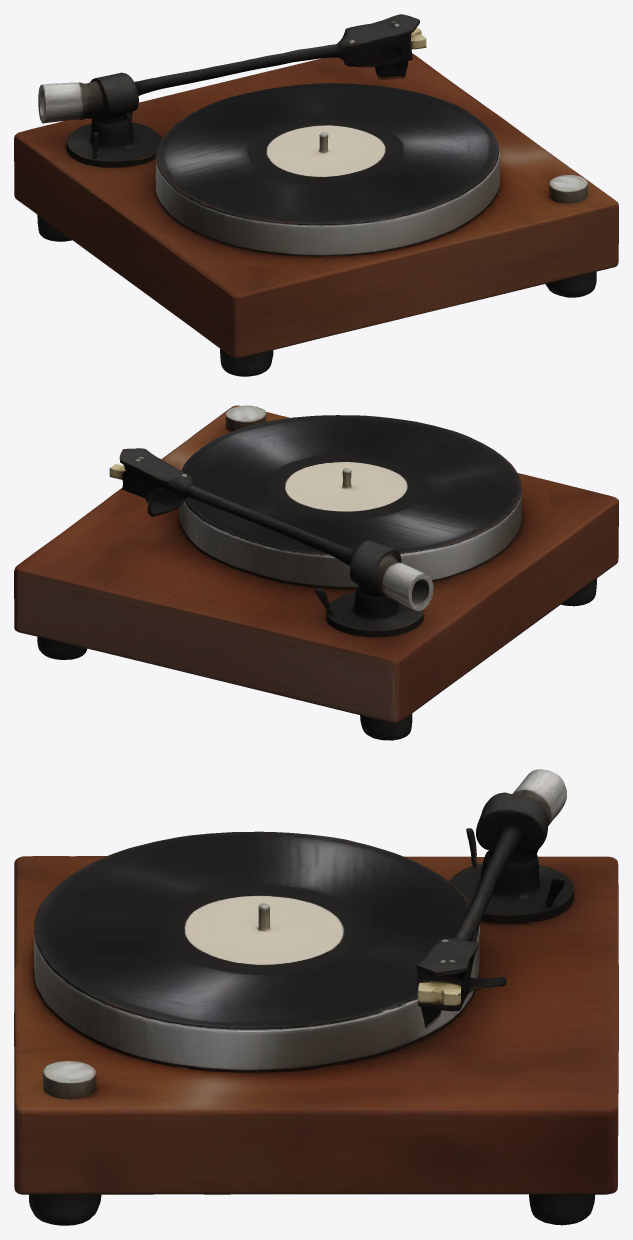
The model's file is turntable.glb.
3 renders of one model, top to bottom at view 1: azimuth 30°, elevation 25°; view 2: azimuth 150°, elevation 25°; view 3: azimuth 270°, elevation 25°, orthographic. The views are drawn at different scales.
Visible parts, largest first — view 1: geometry_0; view 2: geometry_0; view 3: geometry_0.
Part boxes in pixels (x1=…): geometry_0: x1=14, y1=14, x2=618, y2=376; geometry_0: x1=14, y1=405, x2=618, y2=740; geometry_0: x1=14, y1=769, x2=618, y2=1225.
Bounding box in the file's own units: 0.9962 × 0.4231 × 0.9973.
1 material, 1 textured.
